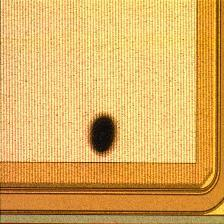PARTICLE: (81, 111, 129, 159)
